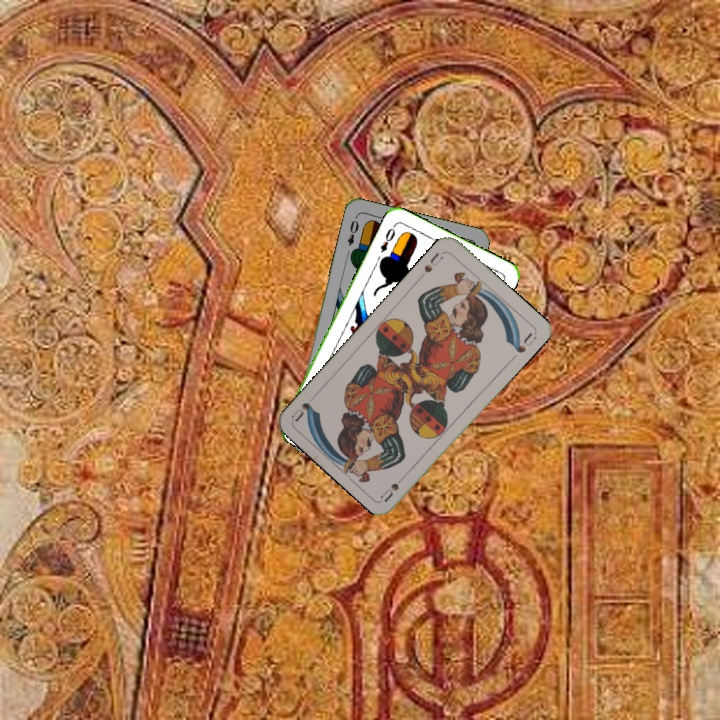EO: (376, 221, 398, 255), (343, 213, 361, 248)
SU: (377, 469, 410, 504), (416, 248, 446, 281)
